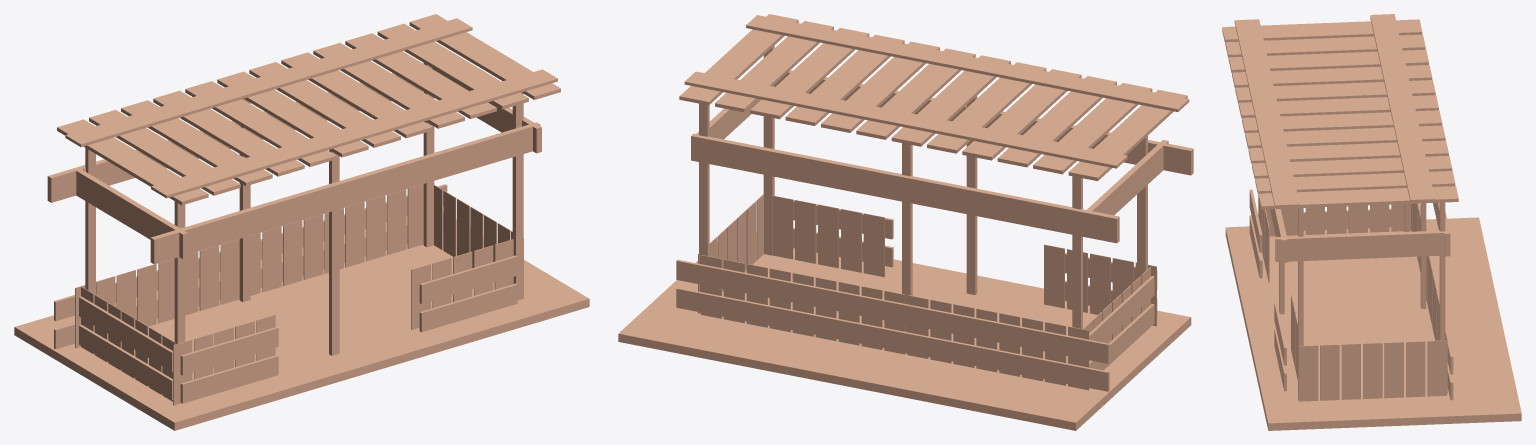
Rendered from Shed.fbx.
The picture shows the model from 3 angles, left to right: view 1: azimuth 30°, elevation 25°; view 2: azimuth 150°, elevation 25°; view 3: azimuth 270°, elevation 25°; orthographic projection. The views are drawn at different scales.
Visible parts, largest first — view 1: Cube.012; view 2: Cube.012; view 3: Cube.012.
Part boxes in pixels (x1,y1,x2,y2): Cube.012: [14, 14, 589, 430]; Cube.012: [618, 14, 1193, 430]; Cube.012: [1222, 14, 1521, 430].
Size of the model in its own units: 19717 by 9433 by 12012.
